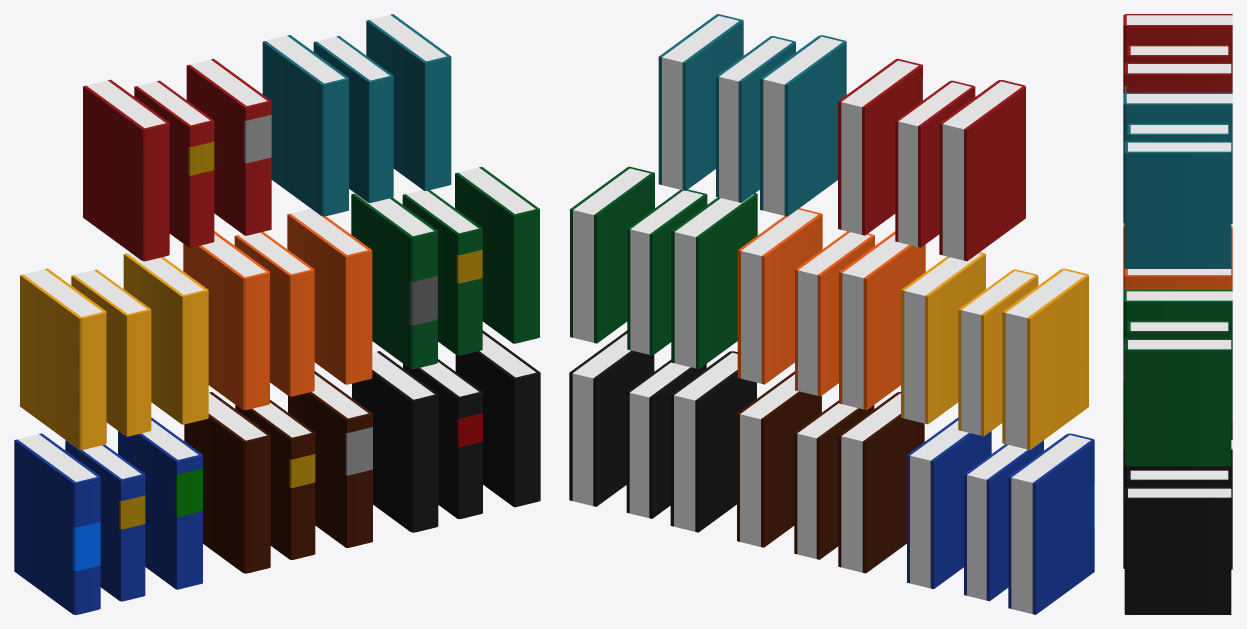
Rendered from Generic_Books.fbx.
3 renders of one model, left to right at view 1: azimuth 30°, elevation 25°; view 2: azimuth 150°, elevation 25°; view 3: azimuth 270°, elevation 25°, orthographic. The views are drawn at different scales.
Visible parts, largest first — view 1: Book_Red_L, Book_Blue_L, Book_Yellow_L, Book_Turquoise_L, Book_Green_L, Book_Brown_L, Book_Black_L, Book_Orange_L, Book_Turquoise_M, Book_Orange_M, Book_Red_M, Book_Green_M (+12 smaller); view 2: Book_Blue_L, Book_Yellow_L, Book_Red_L, Book_Turquoise_L, Book_Green_L, Book_Brown_L, Book_Black_L, Book_Orange_L, Book_Turquoise_M, Book_Red_M, Book_Green_M, Book_Orange_M (+12 smaller); view 3: Book_Green_M, Book_Turquoise_M, Book_Black_M, Book_Turquoise_L, Book_Green_L, Book_Red_L, Book_Red_M, Book_Orange_M, Book_Turquoise_S, Book_Green_S, Book_Red_S, Book_Black_S (+2 smaller).
Part boxes in pixels (x1=…): Book_Red_L: x1=83, y1=79, x2=169, y2=261; Book_Blue_L: x1=14, y1=433, x2=100, y2=614; Book_Yellow_L: x1=20, y1=268, x2=106, y2=449; Book_Turquoise_L: x1=262, y1=35, x2=348, y2=216; Book_Green_L: x1=351, y1=193, x2=437, y2=369; Book_Brown_L: x1=184, y1=392, x2=270, y2=573; Book_Black_L: x1=352, y1=351, x2=438, y2=532; Book_Orange_L: x1=183, y1=231, x2=269, y2=409; Book_Turquoise_M: x1=366, y1=14, x2=451, y2=190; Book_Orange_M: x1=287, y1=208, x2=372, y2=384; Book_Red_M: x1=186, y1=58, x2=271, y2=235; Book_Green_M: x1=455, y1=167, x2=539, y2=343; Book_Blue_L: x1=1008, y1=433, x2=1094, y2=614; Book_Yellow_L: x1=1002, y1=268, x2=1088, y2=449; Book_Red_L: x1=939, y1=80, x2=1025, y2=261; Book_Turquoise_L: x1=760, y1=35, x2=846, y2=216; Book_Green_L: x1=671, y1=193, x2=757, y2=369; Book_Brown_L: x1=838, y1=392, x2=924, y2=573; Book_Black_L: x1=670, y1=351, x2=756, y2=532; Book_Orange_L: x1=839, y1=231, x2=925, y2=410; Book_Turquoise_M: x1=658, y1=14, x2=743, y2=190; Book_Red_M: x1=838, y1=58, x2=922, y2=235; Book_Green_M: x1=570, y1=166, x2=654, y2=343; Book_Orange_M: x1=737, y1=208, x2=822, y2=384; Book_Green_M: x1=1124, y1=338, x2=1231, y2=466; Book_Turquoise_M: x1=1124, y1=141, x2=1231, y2=268; Book_Black_M: x1=1124, y1=487, x2=1231, y2=614; Book_Turquoise_L: x1=1123, y1=92, x2=1232, y2=223; Book_Green_L: x1=1123, y1=290, x2=1232, y2=421; Book_Red_L: x1=1123, y1=14, x2=1232, y2=93; Book_Red_M: x1=1124, y1=62, x2=1231, y2=92; Book_Orange_M: x1=1124, y1=268, x2=1231, y2=289; Book_Turquoise_S: x1=1127, y1=123, x2=1228, y2=141; Book_Green_S: x1=1127, y1=321, x2=1228, y2=338; Book_Red_S: x1=1127, y1=45, x2=1228, y2=62; Book_Black_S: x1=1127, y1=469, x2=1228, y2=486.
Bounding box in the file's own units: 235 × 225 × 52.4.
